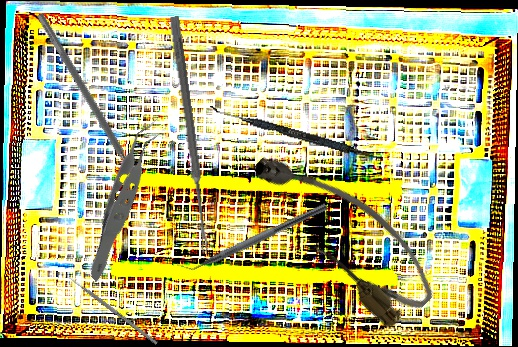Cannula: (240, 126, 448, 336)
Chopper: (175, 192, 329, 281)
Pusher: (61, 270, 159, 346)
Spatula Surgical: (28, 12, 148, 195), (207, 105, 386, 163)
Surgical Spoon: (167, 15, 213, 254)
Tissue Forceps: (39, 117, 214, 283)
